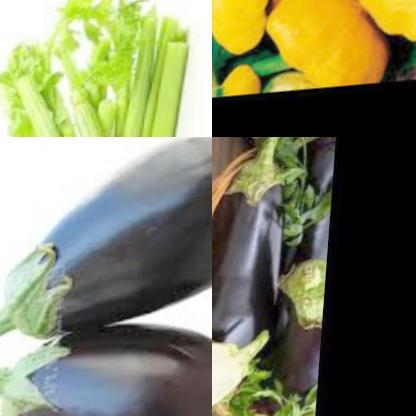celery: (0, 0, 212, 137)
eggplant: (0, 137, 212, 357), (0, 309, 212, 416), (212, 137, 293, 416), (263, 247, 331, 416), (276, 137, 338, 284), (212, 323, 279, 416)
squash-patisson: (265, 0, 403, 97), (212, 0, 292, 75), (212, 59, 276, 100)
